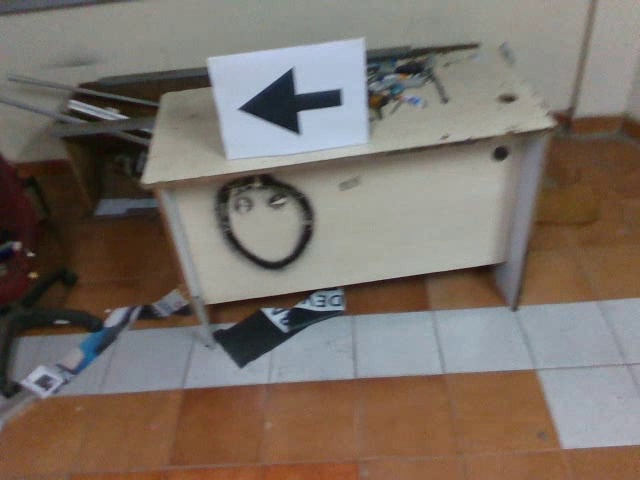Left: (235, 63, 350, 140)
